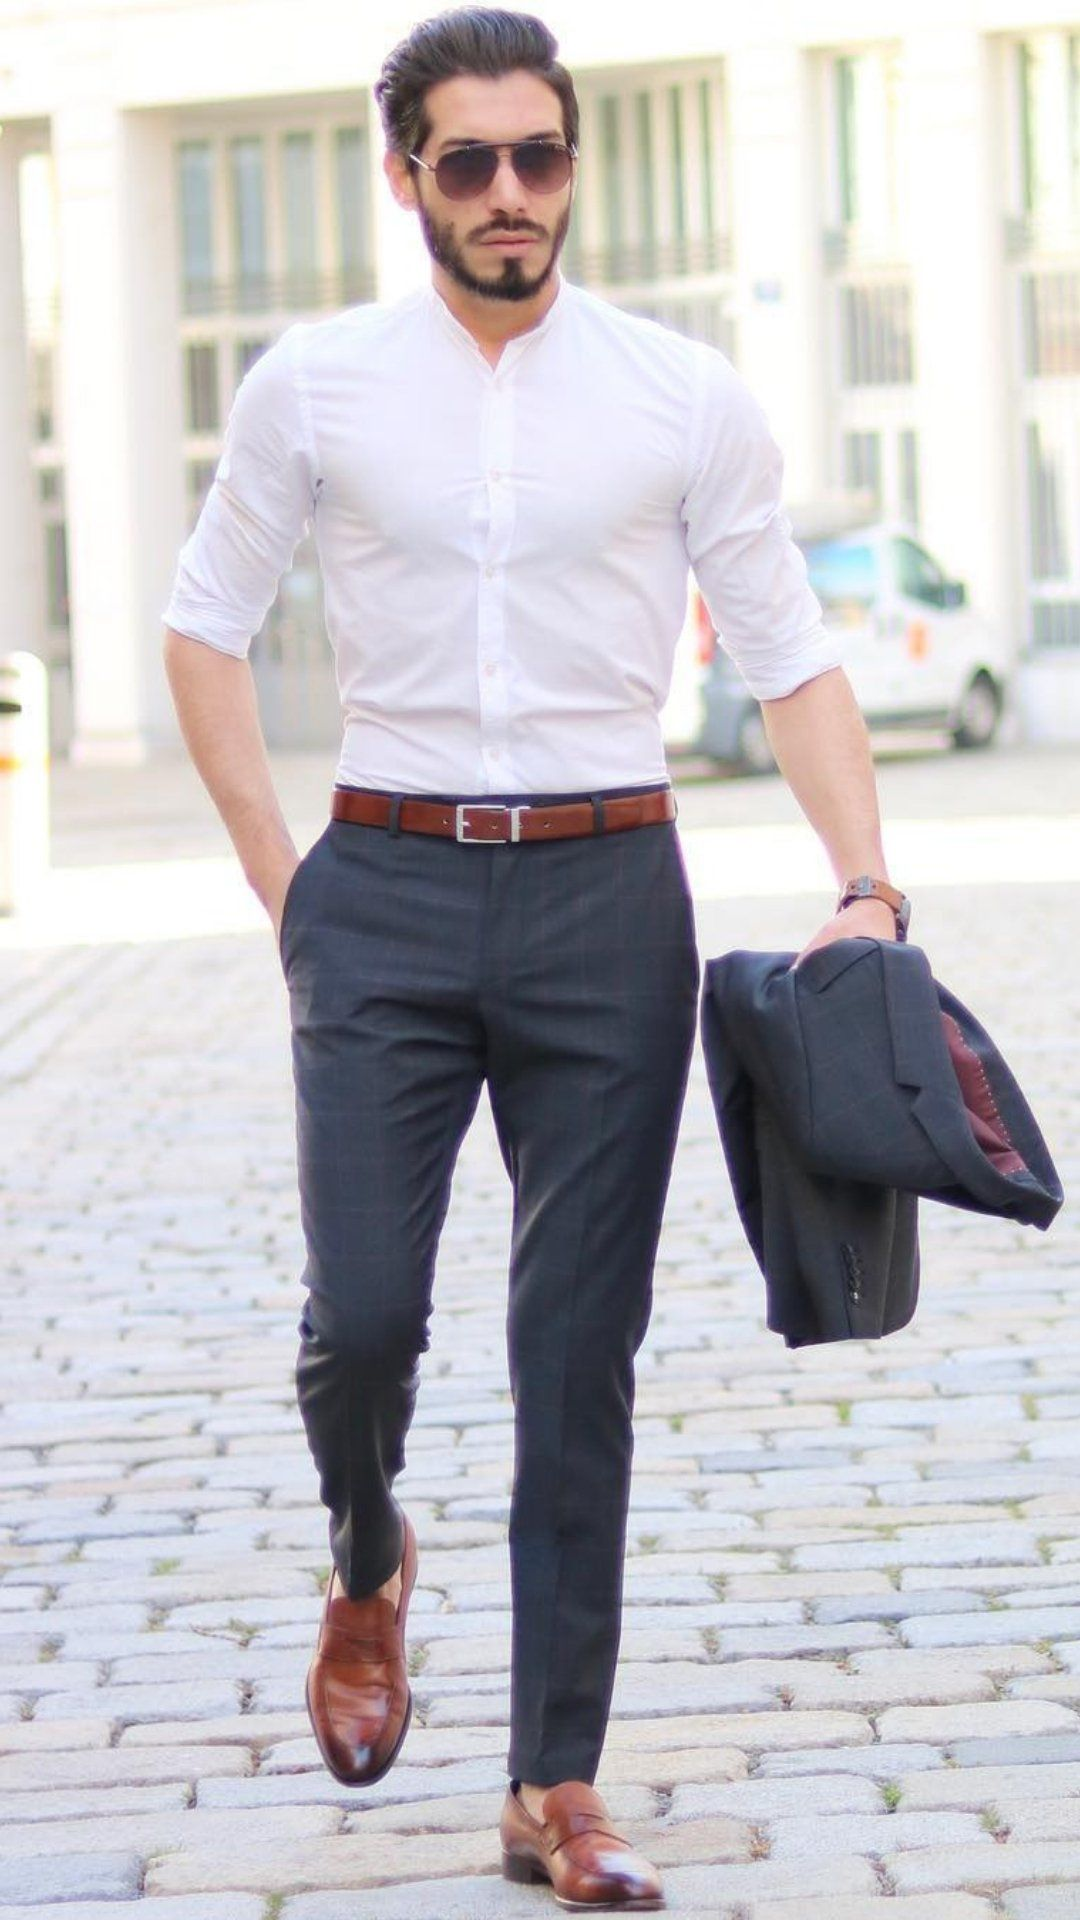F_belt: (301, 742, 680, 866)
F_dress pants: (293, 775, 683, 1766)
F_shirt: (206, 258, 816, 796)
